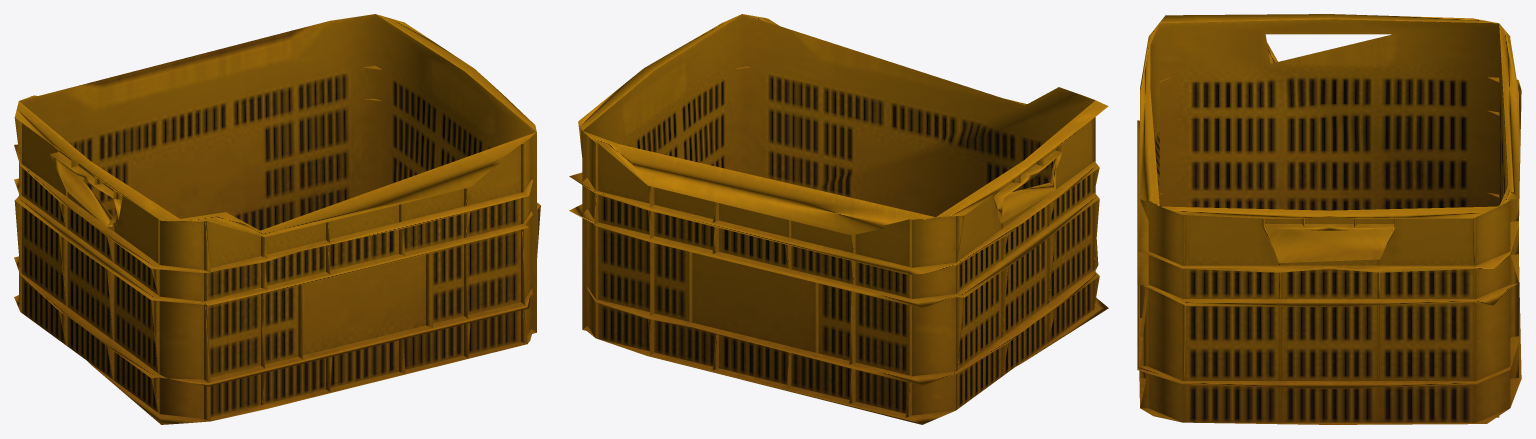
File: plastic_crate_02.glb
3 views of the same model, side by side, from view 1: azimuth 30°, elevation 25°; view 2: azimuth 150°, elevation 25°; view 3: azimuth 270°, elevation 25° (orthographic). The views are drawn at different scales.
Visible parts, largest first — view 1: plastic_crate_02; view 2: plastic_crate_02; view 3: plastic_crate_02.
Boxes of the visible parts, <box> form: plastic_crate_02: <box>14,14,540,424</box>; plastic_crate_02: <box>569,14,1108,424</box>; plastic_crate_02: <box>1137,14,1521,424</box>.
Size of the model in its own units: 0.5055 by 0.2504 by 0.4055.
Materials: 1 (1 with a texture image).
